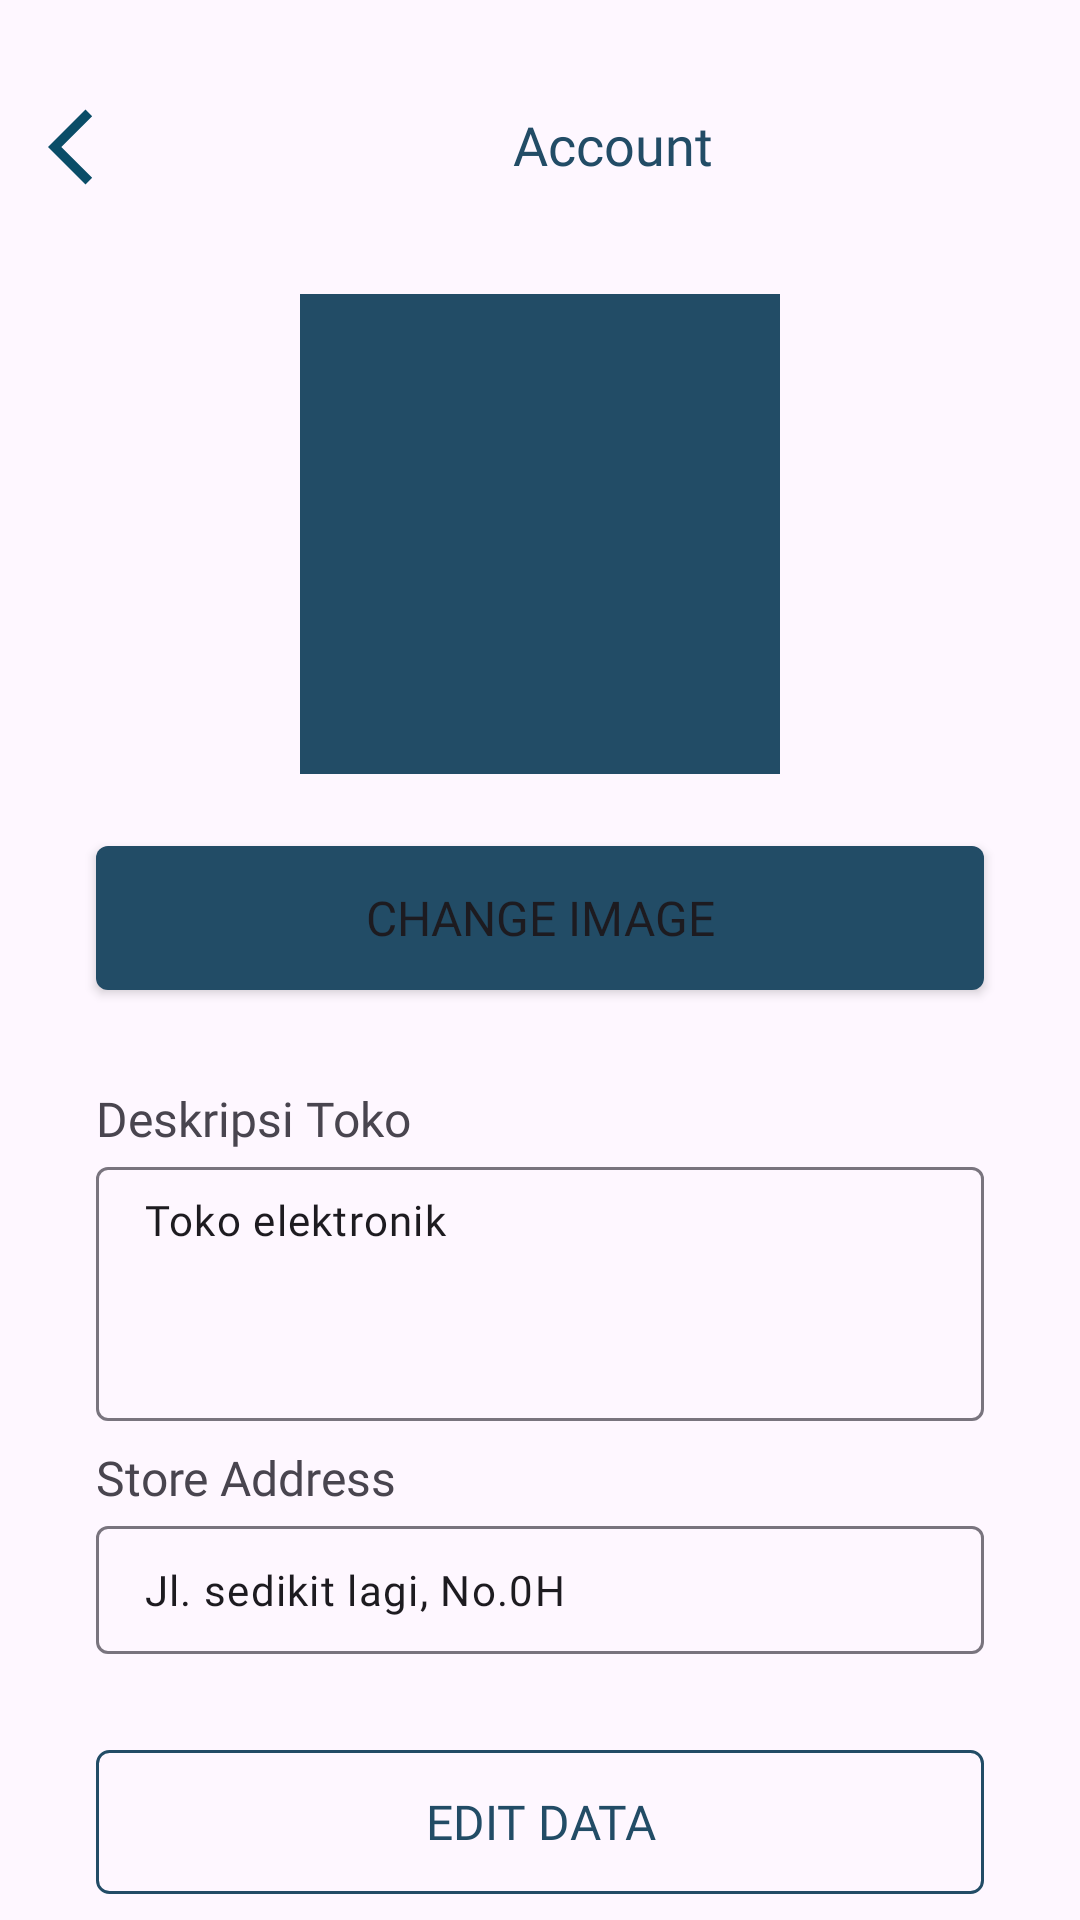

Point at icon controls on the screen. Image size 1080w x 1920h, points as (x,y).
back: (70,147)
